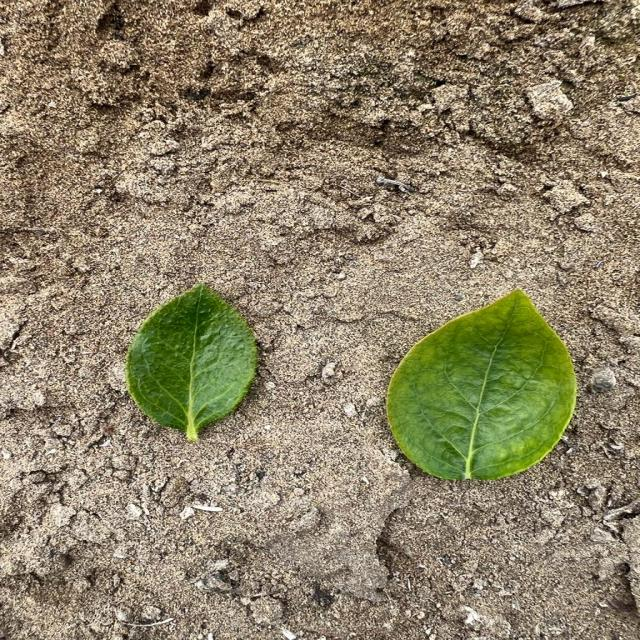Hojas con oidiosis: (121, 279, 259, 442)
Hojas sanas sin oidiosis: (381, 285, 578, 481)
